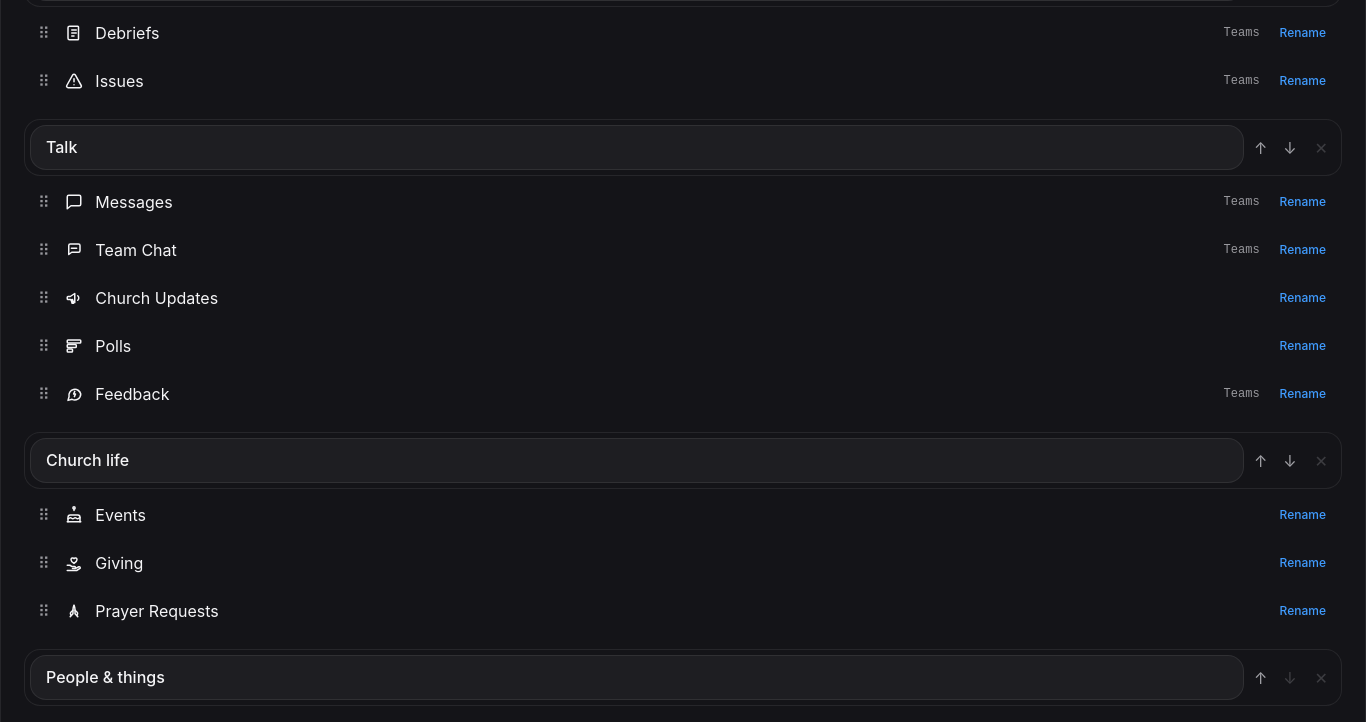
Scenario: arranging the menu › will not save two pages under one name
(page scrolled)
Click the button with aria-label "Rename Polls" at x=1303, y=346, box [1272, 338, 1334, 354]
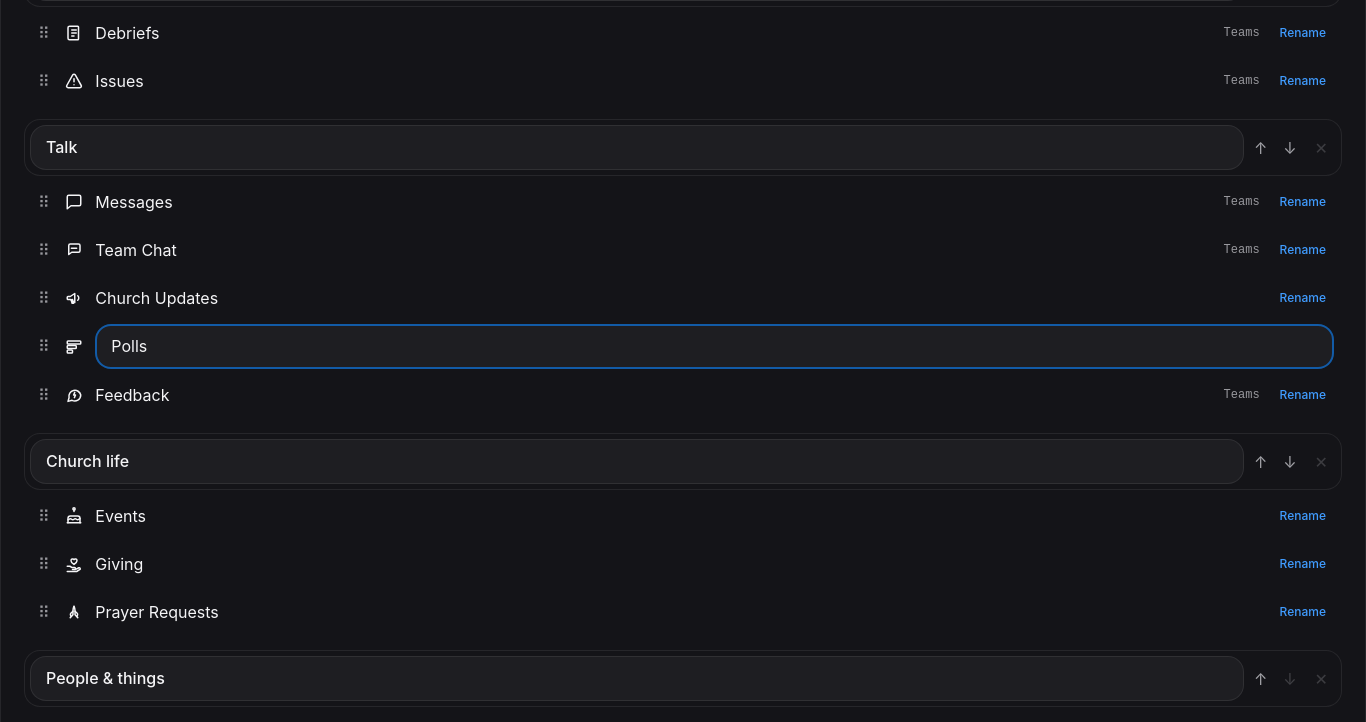
Type "messages" into the field named "Name for Polls" at x=715, y=346, box [95, 324, 1334, 369]
Then press Enter
(page scrolled)
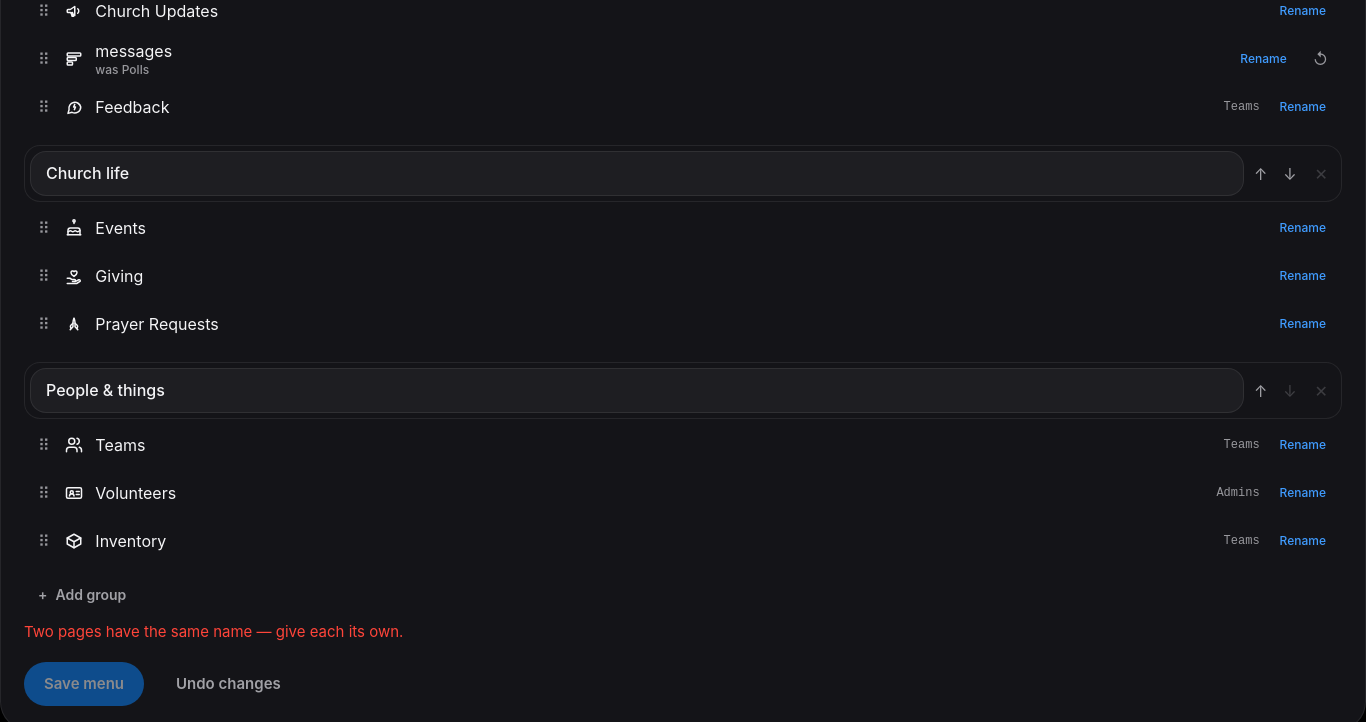
Expected: the text "Two pages have the same name — give each its own." is shown, [24, 622, 403, 641]
Expected: the button "Save menu" is disabled, [24, 662, 144, 706]
